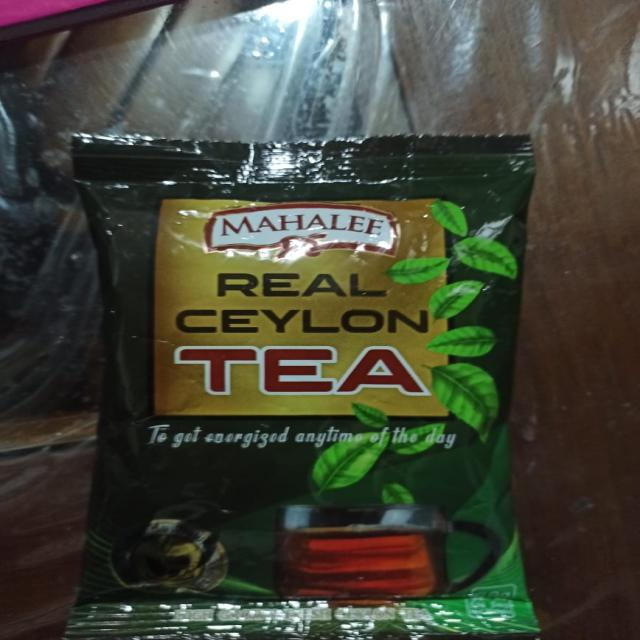Ceryloan TEA: (69, 161, 574, 640)
